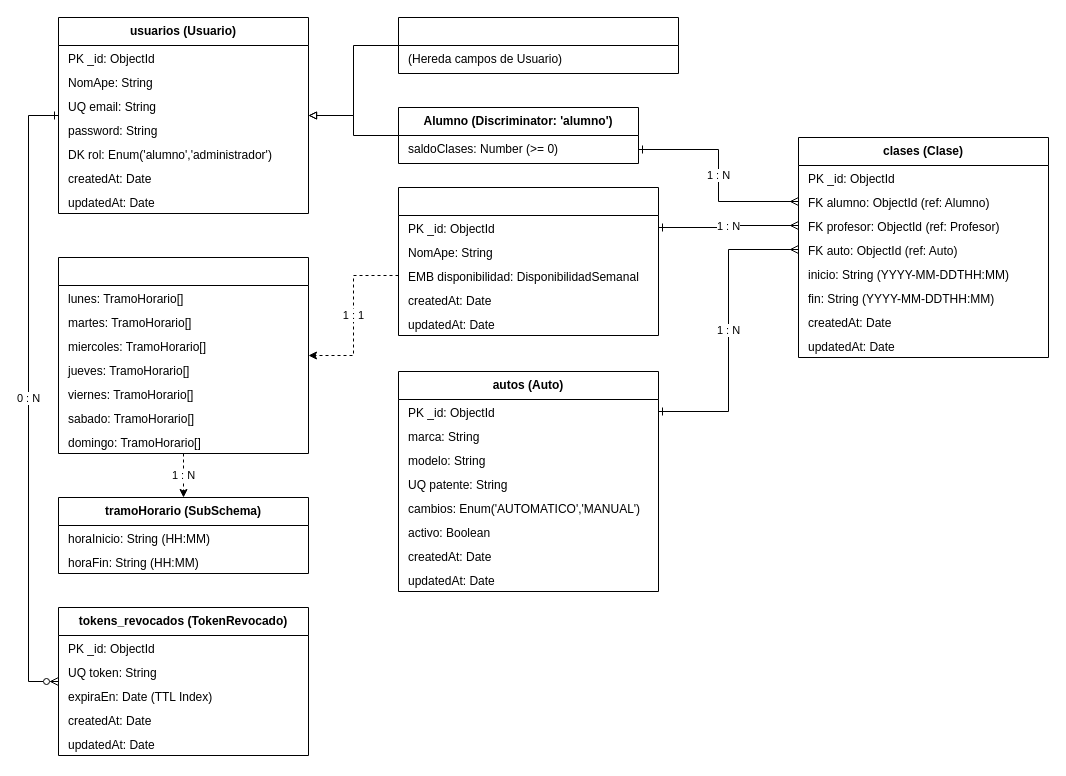
Image size: 1066x776. Some labels were removed from this diagram. Here are the shapes that lost their labels. From the top down, the box of each, then its label:
(398, 16, 678, 74): Administrador (Discriminator: 'administrador')
(398, 186, 658, 336): profesores (Profesor)
(58, 256, 308, 454): disponibilidadSemanal (SubSchema)
